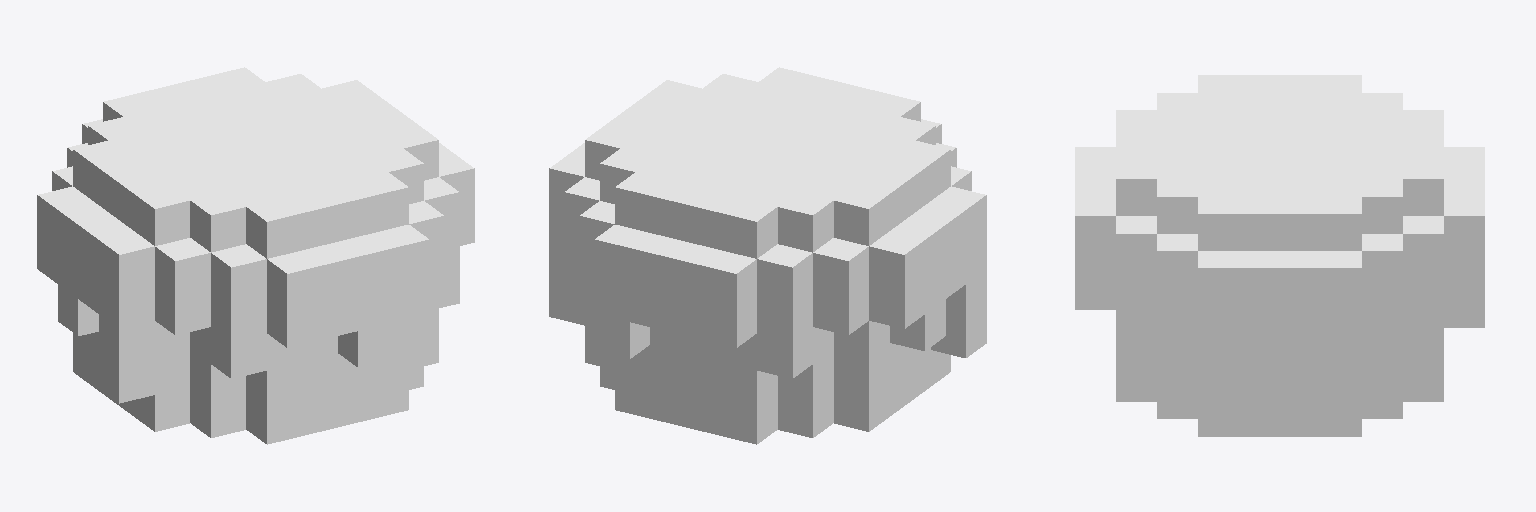
Rendered from glue_sprinkle_cake.obj.
The picture shows the model from 3 angles: view 1: azimuth 30°, elevation 25°; view 2: azimuth 150°, elevation 25°; view 3: azimuth 270°, elevation 25°; orthographic projection.
Visible parts, largest first — view 1: object 1; view 2: object 1; view 3: object 1.
Boxes of the visible parts, x1,y1,x2,y2 form: object 1: [37, 67, 474, 444]; object 1: [549, 67, 986, 444]; object 1: [1075, 75, 1484, 436].
Bounding box in the file's own units: 1 × 0.6 × 1.